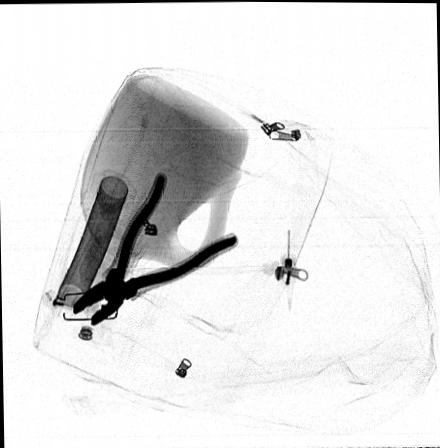Pliers: (72, 174, 237, 328)
